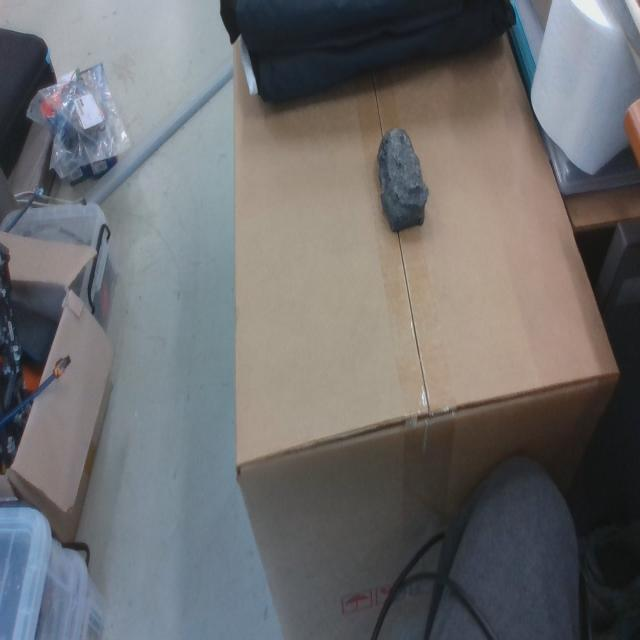stone: (376, 127, 429, 234)
